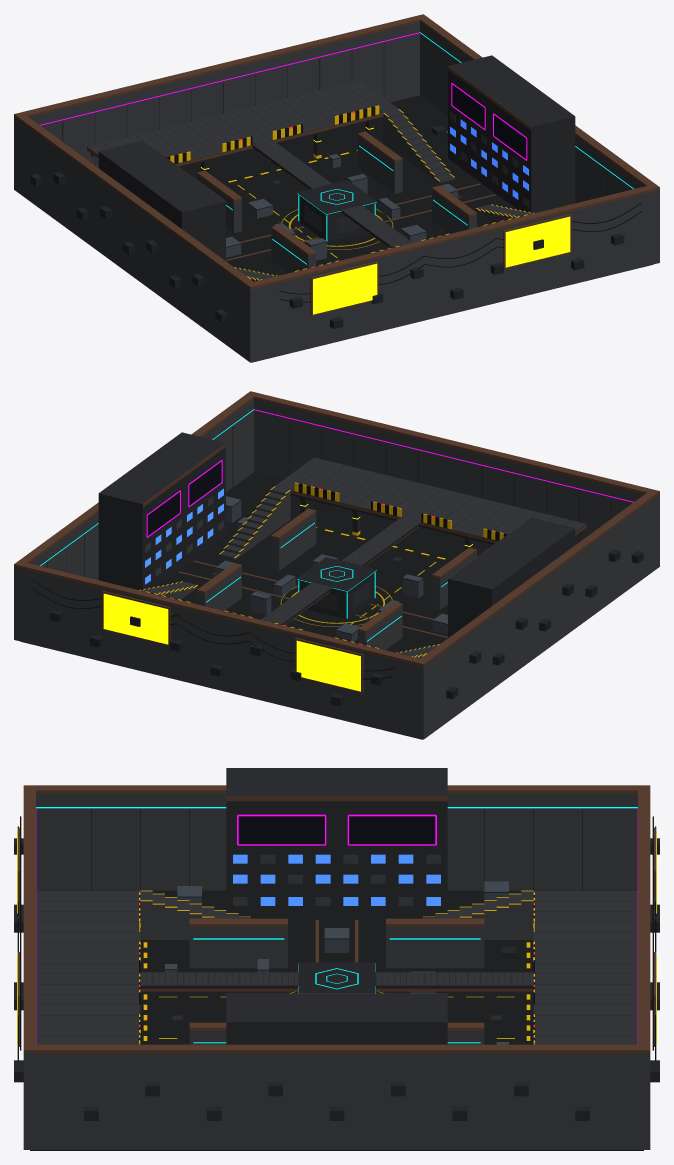
The model's file is arena.glb.
3 renders of one model, top to bottom at view 1: azimuth 30°, elevation 25°; view 2: azimuth 150°, elevation 25°; view 3: azimuth 270°, elevation 25°, orthographic. The views are drawn at different scales.
Visible parts, largest first — view 1: Outer_Walls, Ground, Side_Building_E, Outer_Walls_Decor, Upper_Platform_S, Side_Building_W, Divider_Walls, Central_Tower, Crates, Stairs_4, Side_Building_E_Decor, Railings (+7 smaller); view 2: Outer_Walls, Ground, Side_Building_E, Outer_Walls_Decor, Upper_Platform_N, Side_Building_W, Divider_Walls, Central_Tower, Crates, Stairs_2, Side_Building_E_Decor, Railings (+7 smaller); view 3: Outer_Walls, Side_Building_W, Ground, Upper_Platform_N, Upper_Platform_S, Divider_Walls, Side_Building_E, Outer_Walls_Decor, Side_Building_W_Decor, Stairs_1, Stairs_3, North_Bridge (+7 smaller).
Part boxes in pixels (left/top/right/bottom): Outer_Walls: left=14, top=14, right=659, bottom=362; Ground: left=181, top=95, right=652, bottom=362; Side_Building_E: left=448, top=55, right=575, bottom=212; Outer_Walls_Decor: left=30, top=32, right=641, bottom=329; Upper_Platform_S: left=87, top=80, right=398, bottom=166; Side_Building_W: left=98, top=140, right=225, bottom=260; Divider_Walls: left=197, top=131, right=476, bottom=272; Central_Tower: left=297, top=180, right=376, bottom=242; Crates: left=226, top=131, right=457, bottom=260; Stairs_4: left=383, top=109, right=454, bottom=183; Side_Building_E_Decor: left=447, top=66, right=531, bottom=207; Railings: left=166, top=105, right=527, bottom=271; Outer_Walls: left=14, top=391, right=659, bottom=739; Ground: left=21, top=472, right=492, bottom=739; Side_Building_E: left=98, top=432, right=225, bottom=589; Outer_Walls_Decor: left=32, top=409, right=643, bottom=706; Upper_Platform_N: left=275, top=457, right=586, bottom=543; Side_Building_W: left=448, top=517, right=575, bottom=637; Divider_Walls: left=197, top=508, right=476, bottom=649; Central_Tower: left=297, top=557, right=376, bottom=619; Crates: left=216, top=496, right=447, bottom=641; Stairs_2: left=219, top=486, right=290, bottom=560; Side_Building_E_Decor: left=142, top=443, right=226, bottom=584; Railings: left=146, top=482, right=507, bottom=648; Outer_Walls: left=23, top=785, right=650, bottom=1149; Side_Building_W: left=226, top=768, right=447, bottom=918; Ground: left=30, top=890, right=643, bottom=1150; Upper_Platform_N: left=36, top=890, right=140, bottom=1044; Upper_Platform_S: left=533, top=890, right=637, bottom=1044; Divider_Walls: left=189, top=918, right=484, bottom=1044; Side_Building_E: left=226, top=994, right=447, bottom=1044; Outer_Walls_Decor: left=14, top=807, right=659, bottom=1120; Side_Building_W_Decor: left=226, top=796, right=447, bottom=905; Stairs_1: left=140, top=890, right=250, bottom=939; Stairs_3: left=423, top=890, right=533, bottom=939; North_Bridge: left=140, top=972, right=298, bottom=988.
Bounding box in the file's own units: 52.6 × 11.3 × 52.6.
